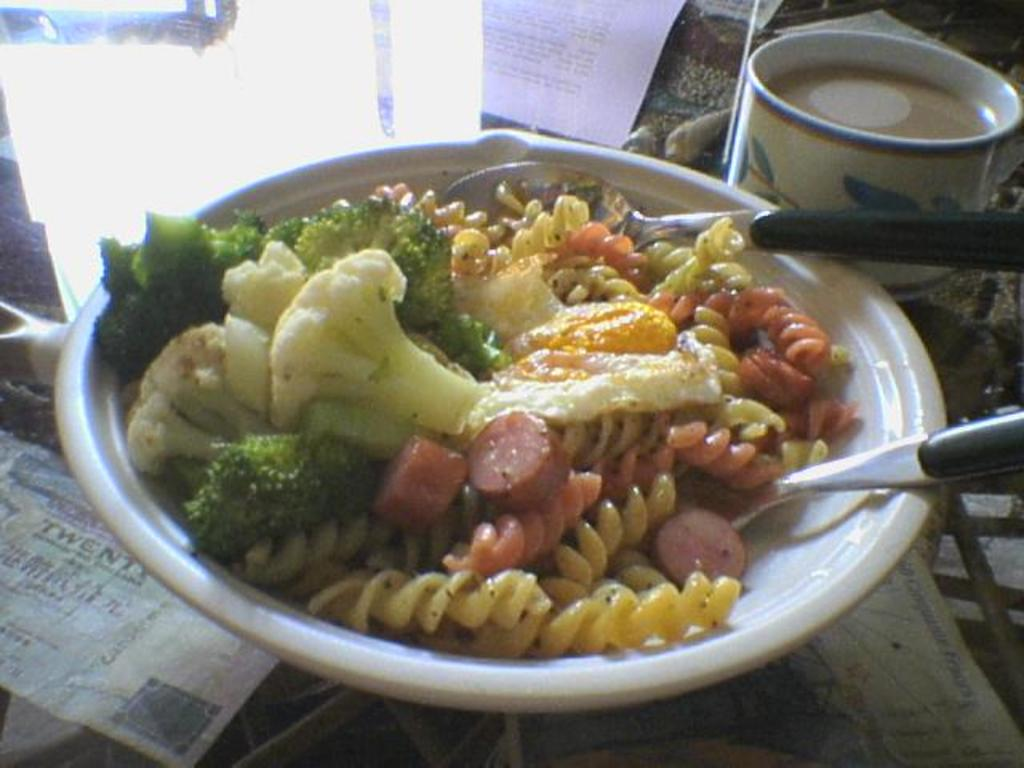pasta: (102, 115, 870, 645)
